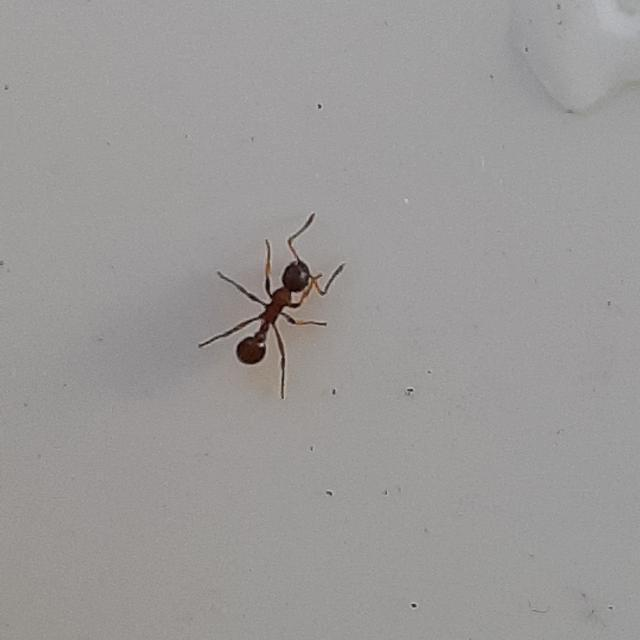Myrmica: (203, 219, 369, 399)
